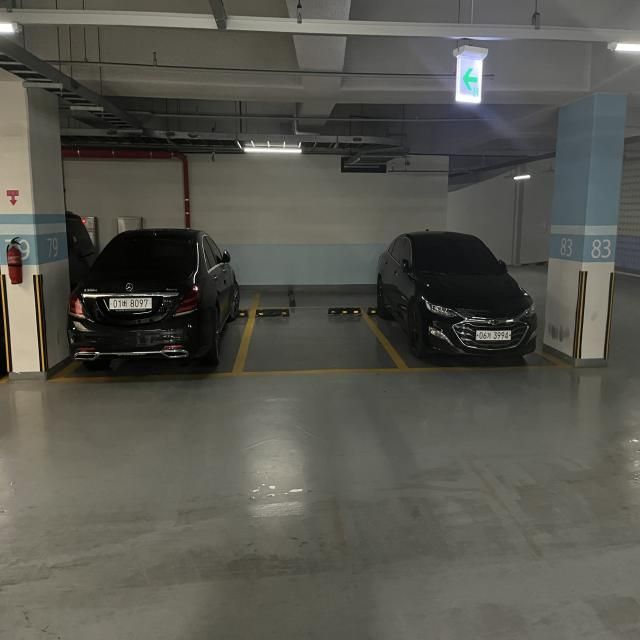empty: (236, 296, 395, 378)
occupied: (366, 234, 551, 361), (73, 240, 246, 368)
